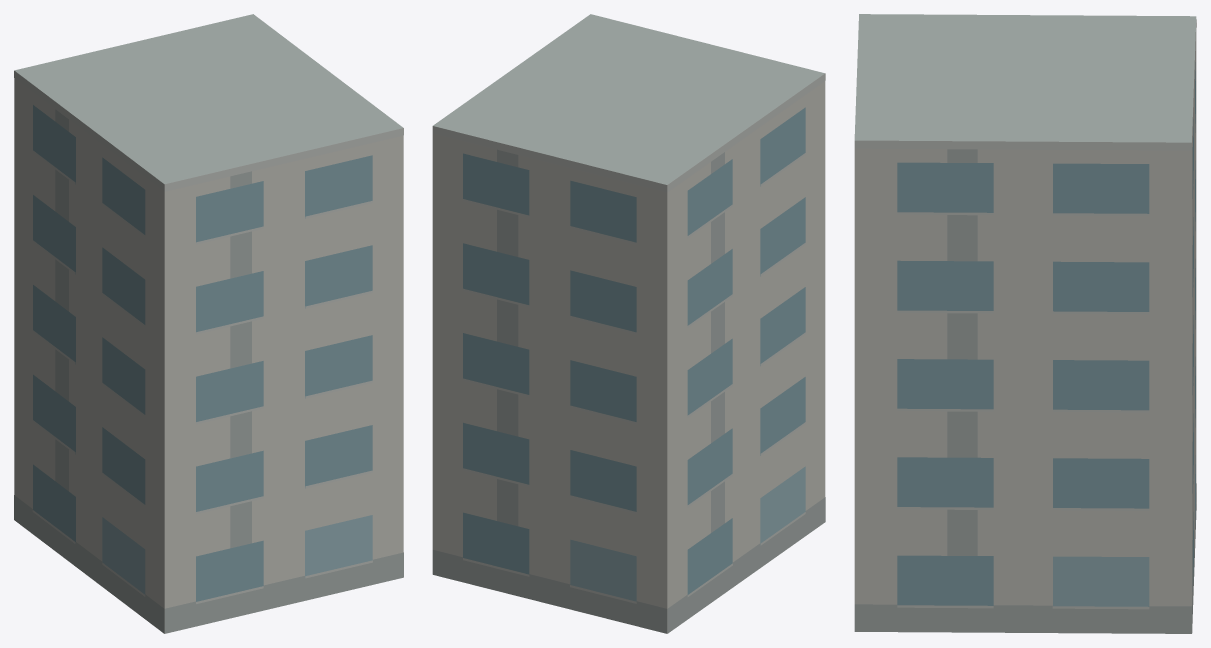
File: survey-upis-32732573.glb
The picture shows the model from 3 angles, left to right: view 1: azimuth 30°, elevation 25°; view 2: azimuth 150°, elevation 25°; view 3: azimuth 270°, elevation 25°; orthographic projection. The views are drawn at different scales.
Parts seen in each view (by area): view 1: survey-upis-32732573.tmp; view 2: survey-upis-32732573.tmp; view 3: survey-upis-32732573.tmp.
Part boxes in pixels (left/top/right/bottom): survey-upis-32732573.tmp: left=14, top=14, right=403, bottom=633; survey-upis-32732573.tmp: left=432, top=14, right=825, bottom=633; survey-upis-32732573.tmp: left=854, top=14, right=1196, bottom=633.
Size of the model in its own units: 8.21 by 14.6 by 9.22.
